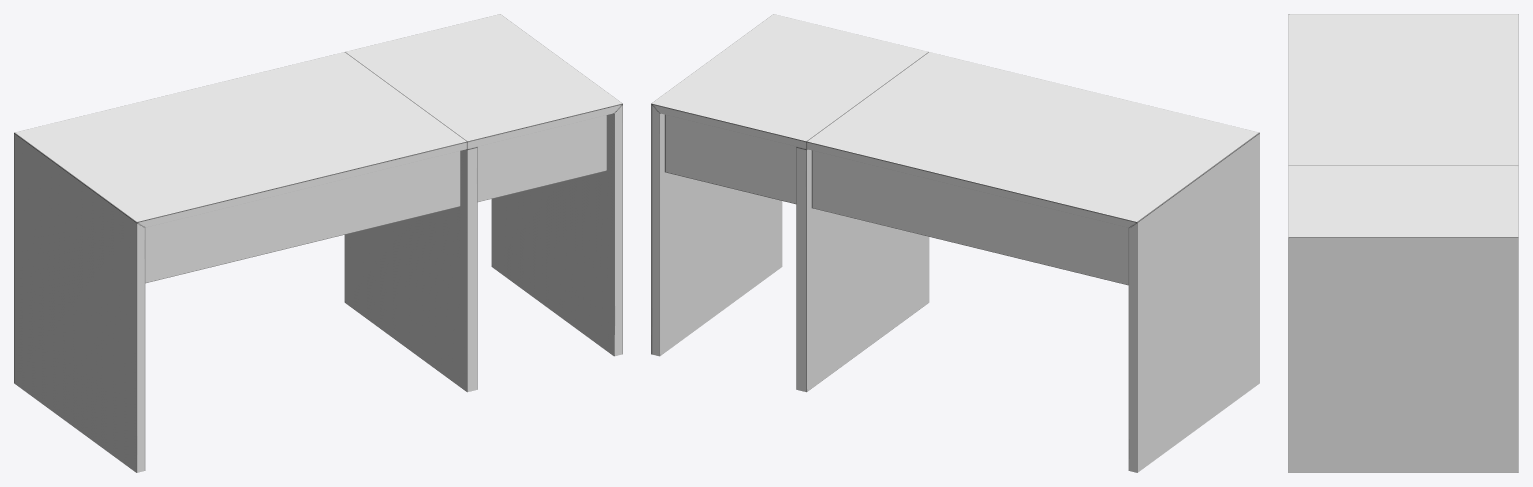
3 views of the same model, side by side, from view 1: azimuth 30°, elevation 25°; view 2: azimuth 150°, elevation 25°; view 3: azimuth 270°, elevation 25° (orthographic). The views are drawn at different scales.
Parts seen in each view (by area): view 1: 靠窗桌, 抽屉; view 2: 靠窗桌, 抽屉; view 3: 靠窗桌.
Boxes of the visible parts, x1=… form: 靠窗桌: x1=14, y1=14, x2=622, y2=472; 抽屉: x1=145, y1=115, x2=606, y2=283; 靠窗桌: x1=651, y1=14, x2=1259, y2=472; 抽屉: x1=664, y1=114, x2=1128, y2=285; 靠窗桌: x1=1288, y1=14, x2=1518, y2=472.
Size of the model in its own units: 567 by 279 by 247.
Materials: 2 (2 with a texture image).
